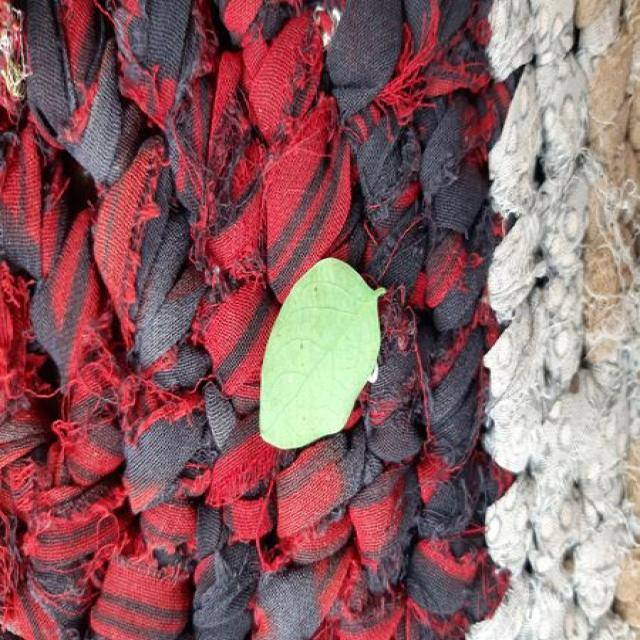amla: (260, 258, 385, 449)
